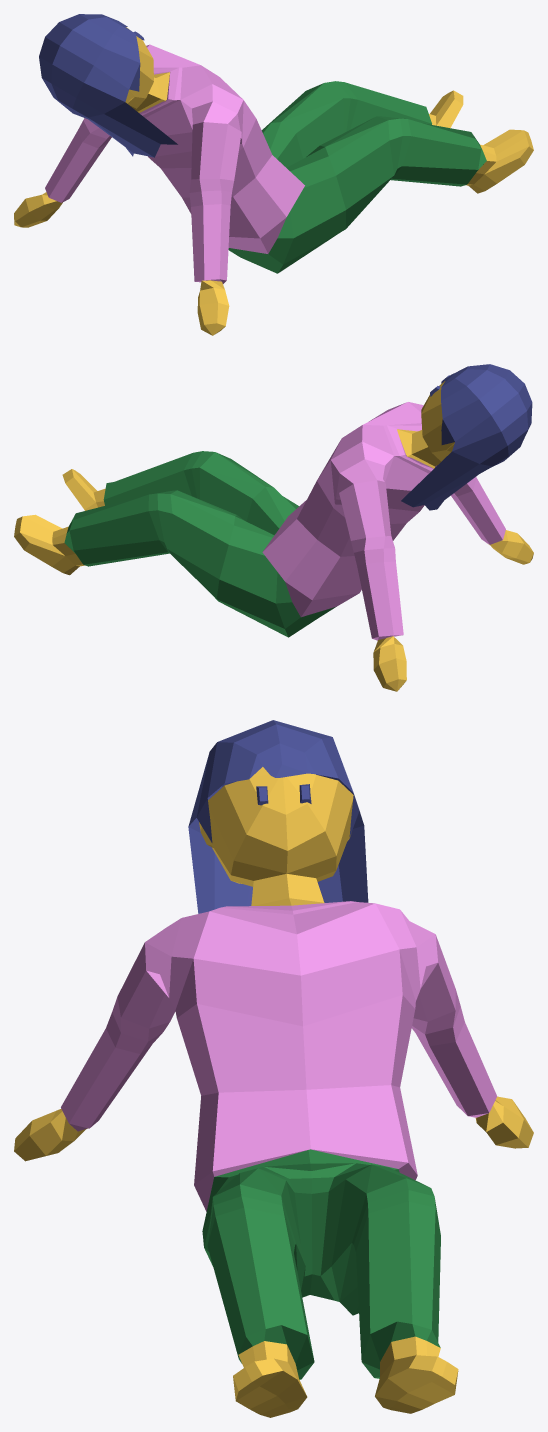
Rendered from 098_店員(Woman)003.glb.
3 renders of one model, top to bottom at view 1: azimuth 30°, elevation 25°; view 2: azimuth 150°, elevation 25°; view 3: azimuth 270°, elevation 25°, orthographic. The views are drawn at different scales.
Parts seen in each view (by area): view 1: 立方体048_4, 立方体048_2, 立方体048, 立方体048_1, 立方体048_3; view 2: 立方体048_2, 立方体048_4, 立方体048, 立方体048_1, 立方体048_3; view 3: 立方体048_4, 立方体048_2, 立方体048_1, 立方体048, 立方体048_3.
Boxes of the visible parts, box(x1,y1,x2,y2) form: 立方体048_4: box(45, 44, 304, 283); 立方体048_2: box(228, 81, 486, 273); 立方体048: box(39, 14, 177, 157); 立方体048_1: box(125, 27, 533, 193); 立方体048_3: box(14, 192, 229, 335); 立方体048_2: box(64, 451, 336, 637); 立方体048_4: box(262, 402, 505, 640); 立方体048: box(401, 364, 532, 510); 立方体048_1: box(14, 381, 454, 575); 立方体048_3: box(373, 530, 533, 691); 立方体048_4: box(61, 901, 497, 1211); 立方体048_2: box(202, 1149, 440, 1379); 立方体048_1: box(199, 767, 458, 1417); 立方体048: box(188, 720, 368, 913); 立方体048_3: box(14, 1096, 533, 1161).
Bounding box in the file's own units: 1.77 × 1.04 × 1.1.
